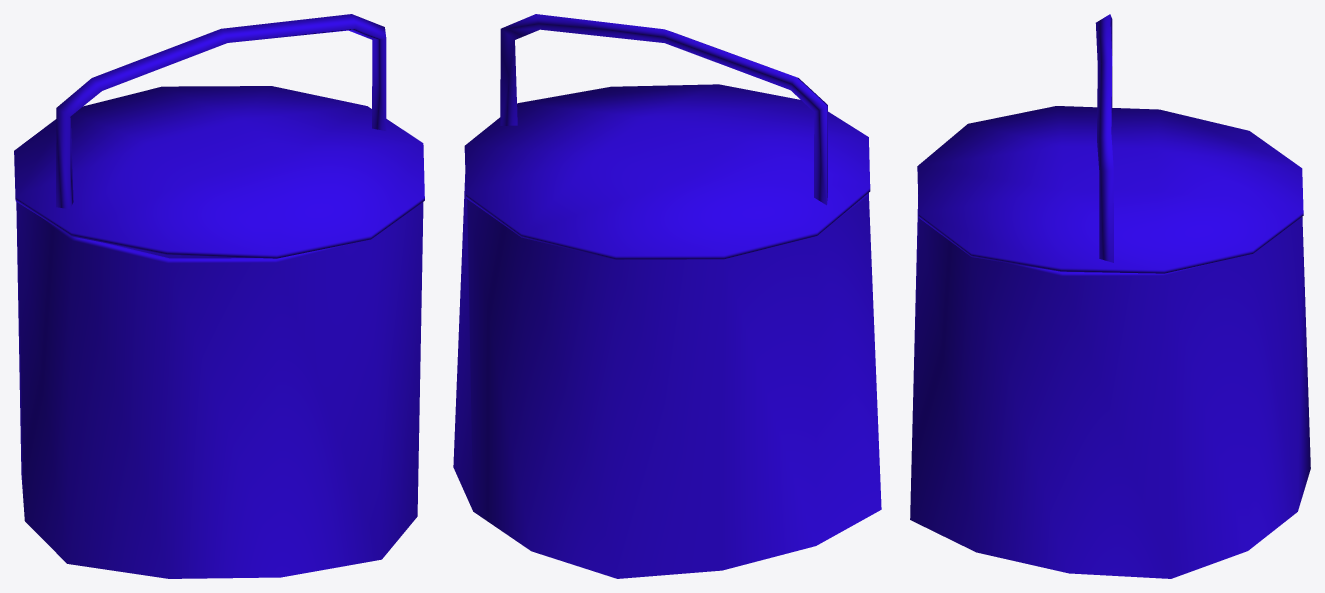
File: Basket_4_M.fbx
3 renders of one model, left to right at view 1: azimuth 30°, elevation 25°; view 2: azimuth 150°, elevation 25°; view 3: azimuth 270°, elevation 25°, orthographic. The views are drawn at different scales.
Parts seen in each view (by area): view 1: Basket_4_LOD0; view 2: Basket_4_LOD0; view 3: Basket_4_LOD0.
Boxes of the visible parts, left/top/right/bottom form: Basket_4_LOD0: left=14, top=14, right=424, bottom=578; Basket_4_LOD0: left=453, top=14, right=881, bottom=578; Basket_4_LOD0: left=910, top=14, right=1310, bottom=578.
Size of what is drawn, in the model's own units: 42.98 by 51.75 by 42.98.
